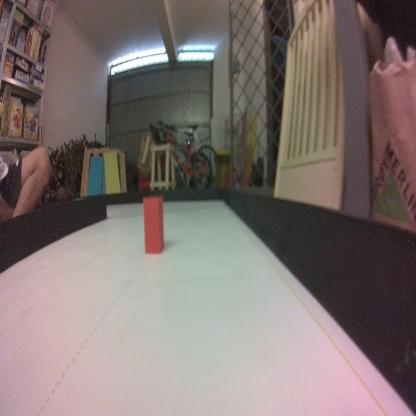red: (142, 193, 165, 254)
